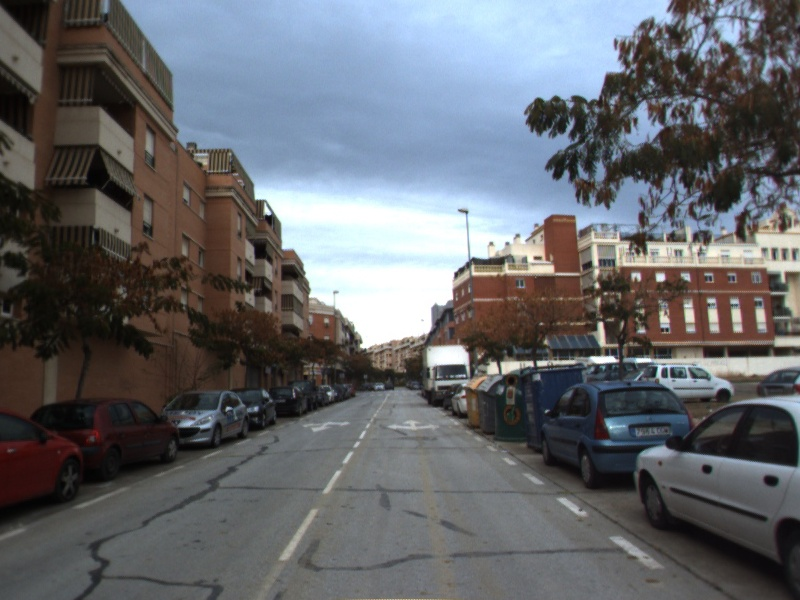STRAIGHT_LEFT_RIGHT: (384, 417, 443, 433)
